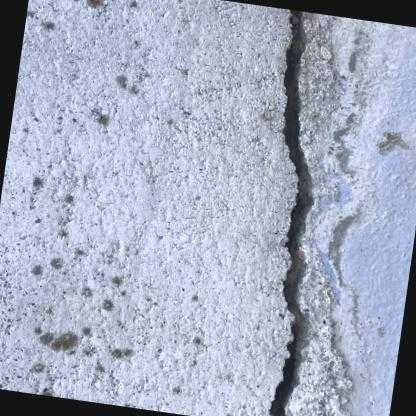crack: (268, 9, 313, 416)
